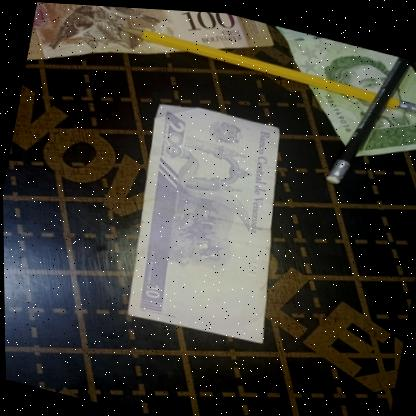ten-back-vef: (110, 92, 302, 346)
